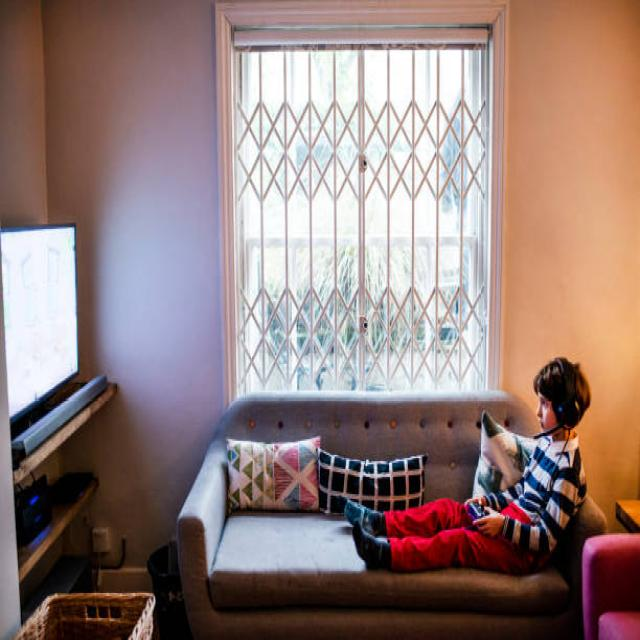Headphone: (532, 354, 580, 440)
